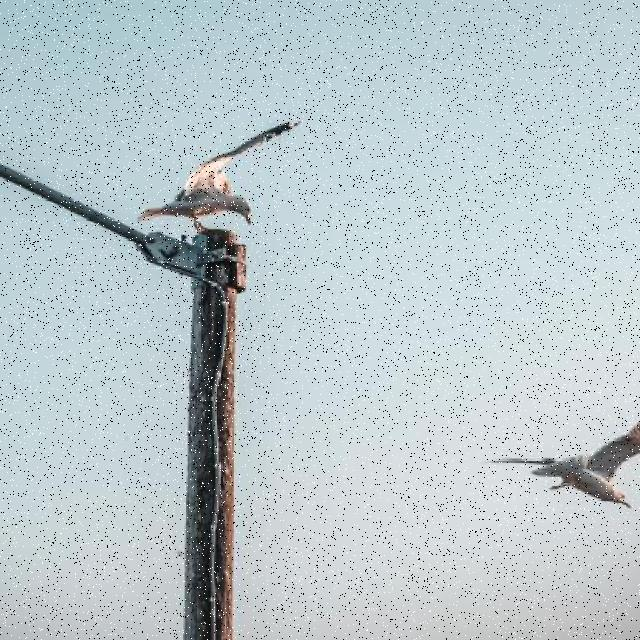bird: (140, 119, 303, 232), (486, 421, 640, 512)
